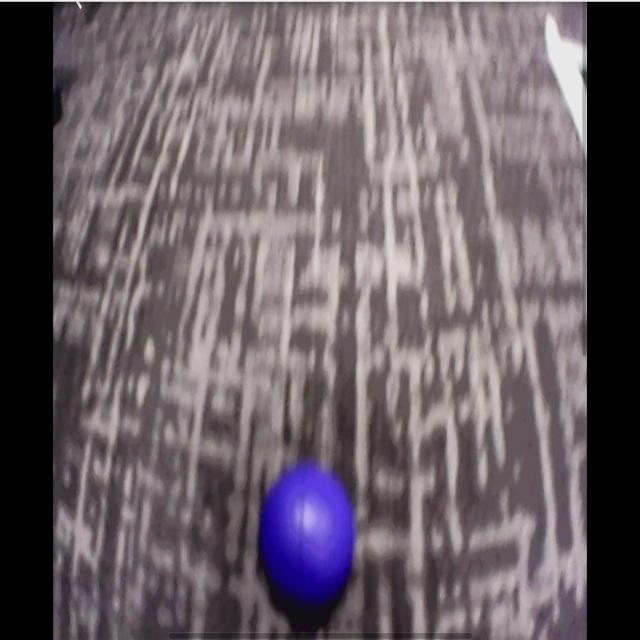ball: (261, 468, 355, 608)
